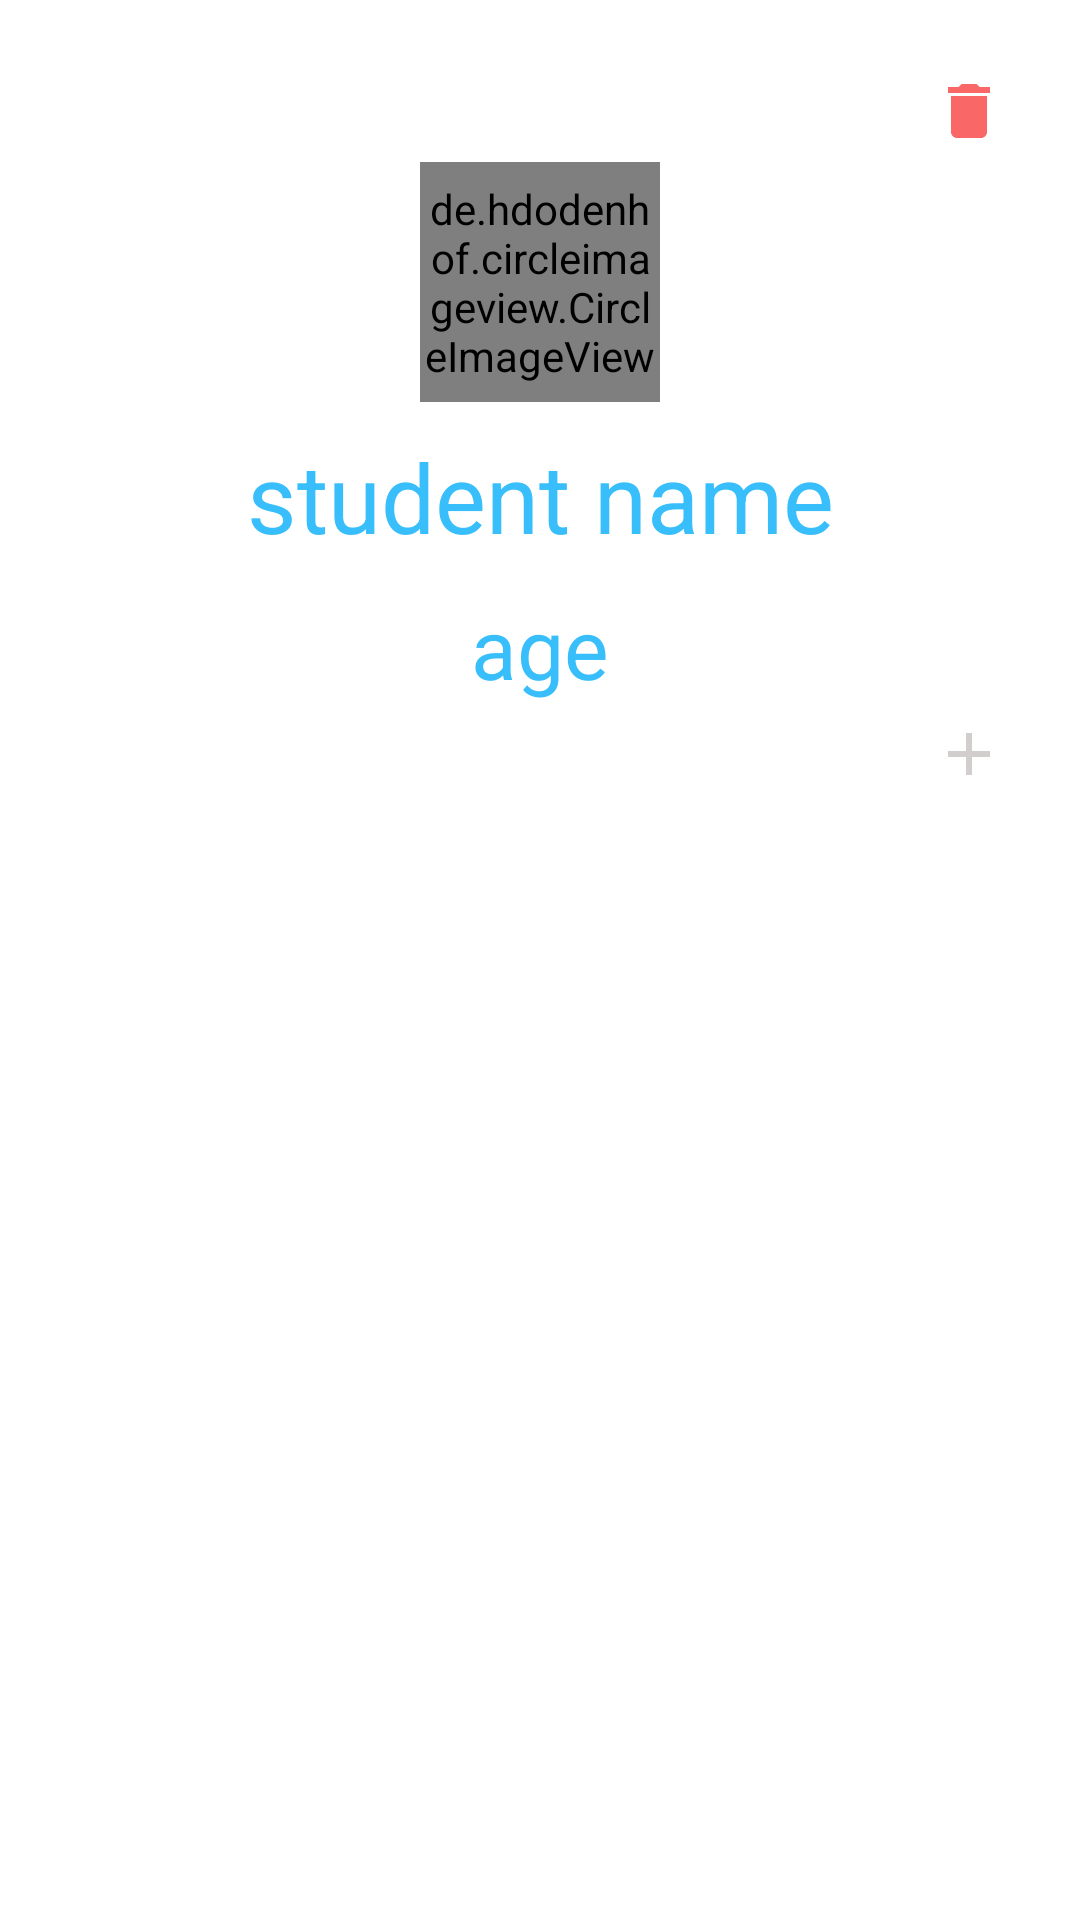

Icon bounding boxes for this 1080×1920 phone screenshot, format Rect(x1, y1, x2, y2):
add: Rect(948, 733, 990, 775)
delete: Rect(948, 84, 990, 138)
